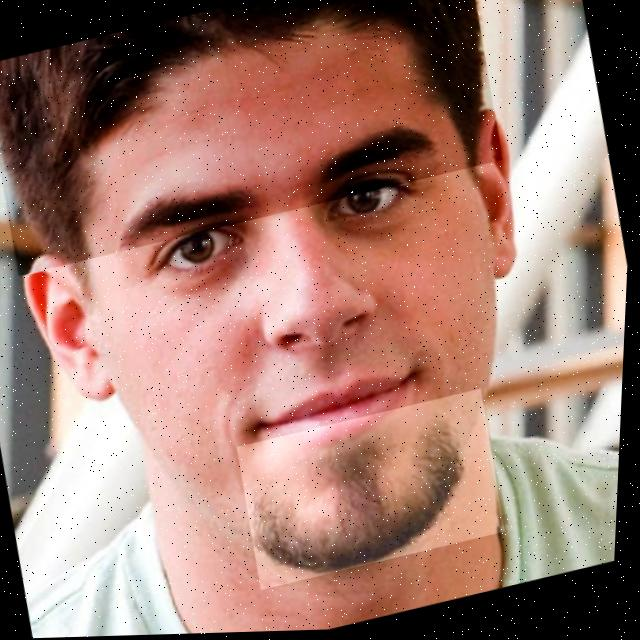beard: (254, 391, 497, 576)
hair: (0, 0, 481, 261)
